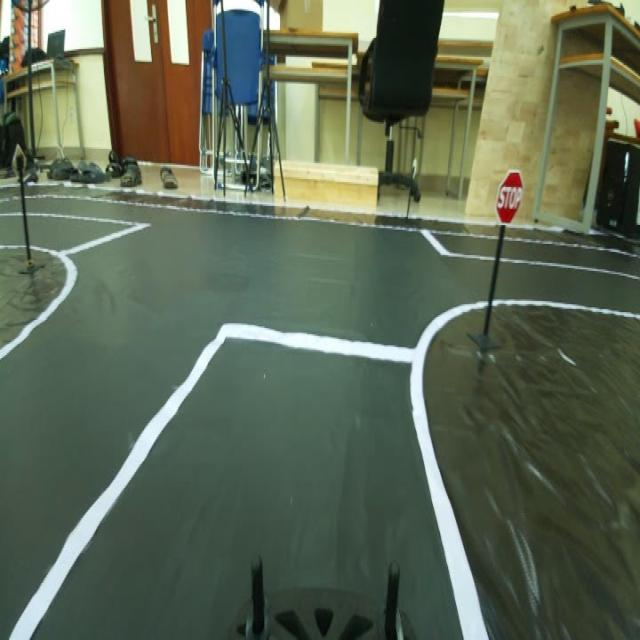stop: (490, 173, 530, 225)
